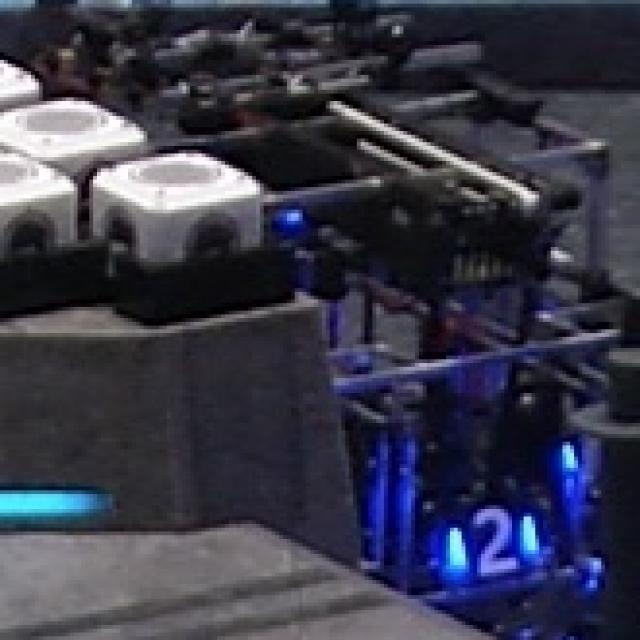B2: (438, 502, 551, 580)
